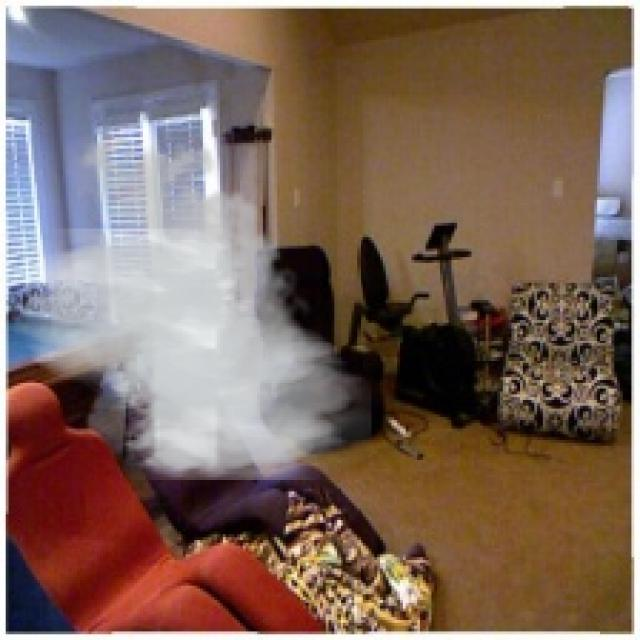smoke: (0, 123, 372, 481)
